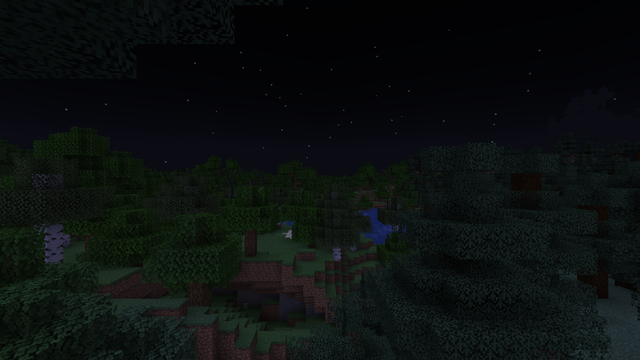slimes: (242, 302, 247, 307)
